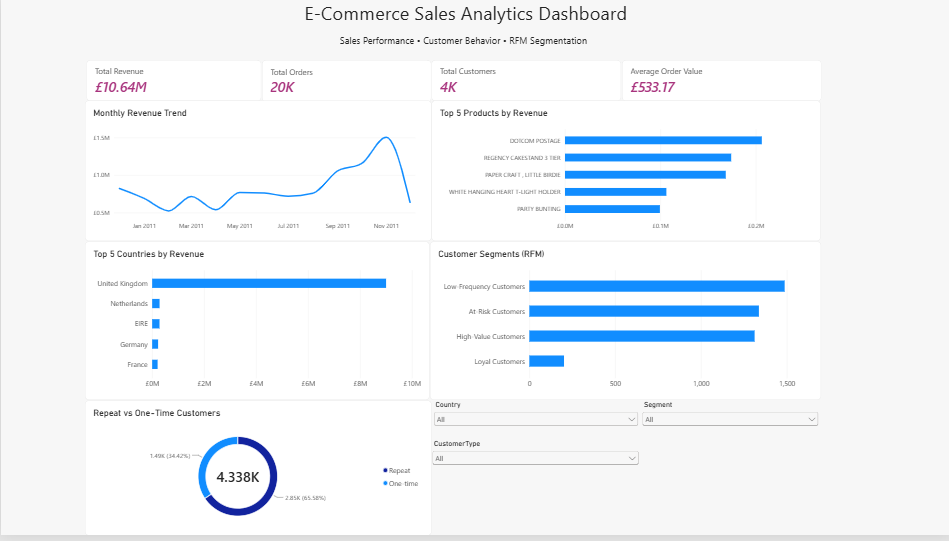

Layout of this report page (visuals, bound fields, positions):
{"tool":"powerbi","page":{"name":"Page 1","canvas":[1920,1080],"ordinal":0},"visuals":[{"type":"cardVisual","fields":{"Data":["power_bi_sales.Total Revenue"]},"box":[173.3,120,353.3,83.3],"z":0},{"type":"cardVisual","fields":{"Data":["power_bi_sales.Total Customers"]},"box":[870,120,383.3,83.3],"z":1},{"type":"cardVisual","fields":{"Data":["power_bi_sales.Total Orders"]},"box":[527.5,120,342.5,85],"z":2},{"type":"cardVisual","fields":{"Data":["power_bi_sales.Average Order Value"]},"box":[1253.3,120,403.3,83.3],"z":3},{"type":"lineChart","title":"Monthly Revenue Trend","fields":{"Category":["power_bi_sales.YearMonth.Variation.Date Hierarchy.Year","power_bi_sales.YearMonth.Variation.Date Hierarchy.Month"],"Y":["power_bi_sales.Total Revenue"]},"box":[170,204,700,284],"z":4},{"type":"clusteredBarChart","title":"Top 5 Products by Revenue","fields":{"Category":["power_bi_sales.Description"],"Y":["power_bi_sales.Total Revenue"]},"box":[870,204,786,284],"z":5},{"type":"clusteredBarChart","title":"Top 5 Countries by Revenue","fields":{"Category":["power_bi_sales.Country"],"Y":["power_bi_sales.Total Revenue"]},"box":[170,488,696,320],"z":6},{"type":"clusteredBarChart","title":"Customer Segments (RFM)","fields":{"Category":["power_bi_sales.Segment"],"Y":["Count(power_bi_sales.CustomerID)"]},"box":[866,488,790,320],"z":7},{"type":"donutChart","title":"Repeat vs One-Time Customers","fields":{"Category":["power_bi_sales.CustomerType"],"Y":["Count(power_bi_sales.CustomerID)"]},"box":[170,808,700,272],"z":8},{"type":"slicer","fields":{"Values":["power_bi_sales.Country"]},"box":[870,808,422,80],"z":9},{"type":"slicer","fields":{"Values":["power_bi_sales.Segment"]},"box":[1290,810,365,78.3],"z":10},{"type":"slicer","fields":{"Values":["power_bi_sales.CustomerType"]},"box":[866,888,426,76],"z":11},{"type":"textbox","box":[552.5,0,805,120],"z":12}]}

Visuals, with their boxes in screenshot pixels (x1, y1, x2, y2), scaled from the page's 1920x1080 canvas onto the 949x541 screenshot:
cardVisual - power_bi_sales.Total Revenue: detection(86, 60, 260, 102)
cardVisual - power_bi_sales.Total Customers: detection(430, 60, 619, 102)
cardVisual - power_bi_sales.Total Orders: detection(261, 60, 430, 103)
cardVisual - power_bi_sales.Average Order Value: detection(619, 60, 819, 102)
"Monthly Revenue Trend" lineChart: detection(84, 102, 430, 244)
"Top 5 Products by Revenue" clusteredBarChart: detection(430, 102, 819, 244)
"Top 5 Countries by Revenue" clusteredBarChart: detection(84, 244, 428, 405)
"Customer Segments (RFM)" clusteredBarChart: detection(428, 244, 819, 405)
"Repeat vs One-Time Customers" donutChart: detection(84, 405, 430, 540)
slicer - power_bi_sales.Country: detection(430, 405, 639, 445)
slicer - power_bi_sales.Segment: detection(638, 406, 818, 445)
slicer - power_bi_sales.CustomerType: detection(428, 445, 639, 483)
textbox: detection(273, 0, 671, 60)
